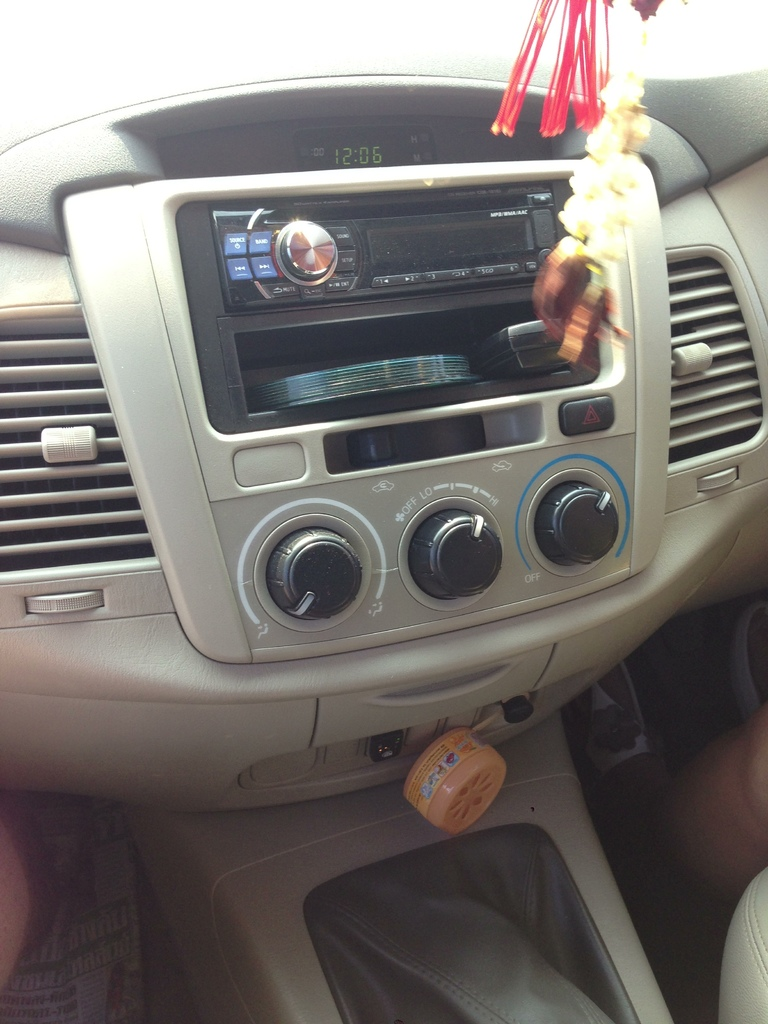Car: (0, 0, 760, 967)
